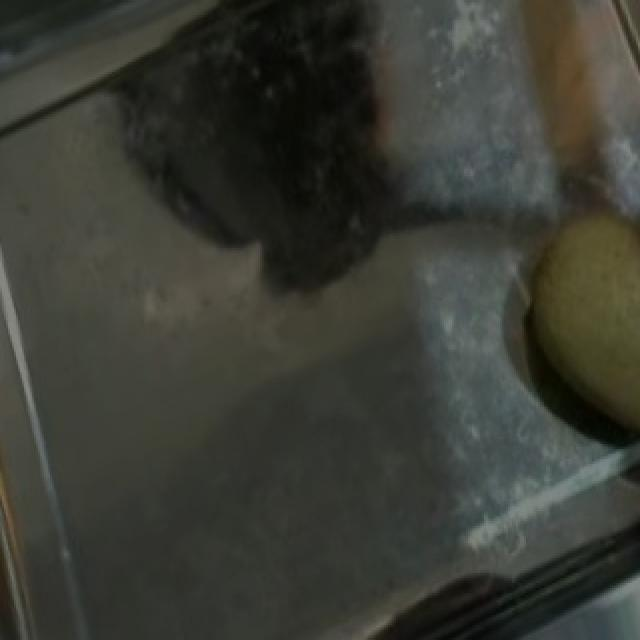Fruit: (488, 186, 640, 469)
